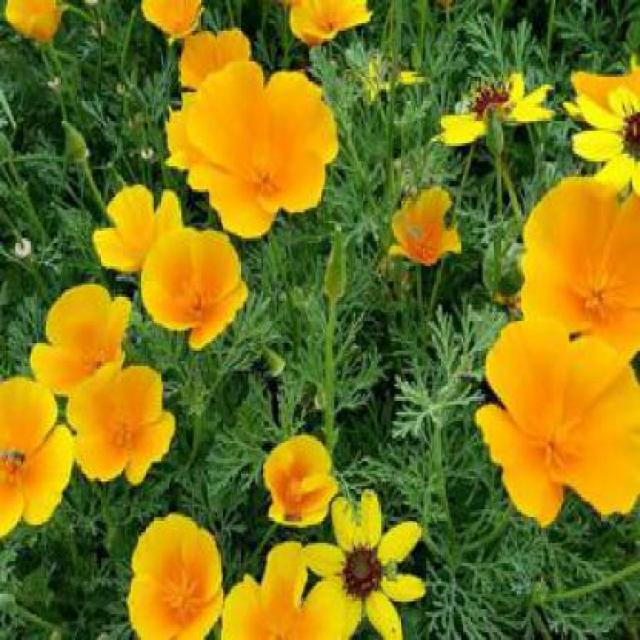Flower: (475, 318, 638, 530), (186, 59, 339, 239), (521, 180, 638, 369), (298, 489, 429, 638), (63, 362, 177, 486), (141, 225, 250, 351), (125, 512, 227, 638), (29, 282, 135, 402), (219, 538, 344, 638), (2, 374, 76, 540), (433, 71, 556, 146), (563, 85, 639, 205), (91, 185, 185, 282), (263, 432, 339, 528), (388, 185, 462, 269)
